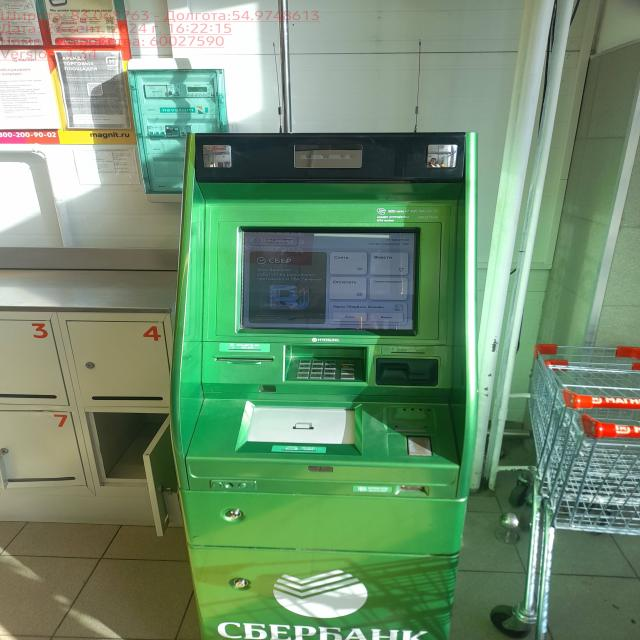bank: (170, 131, 479, 640)
